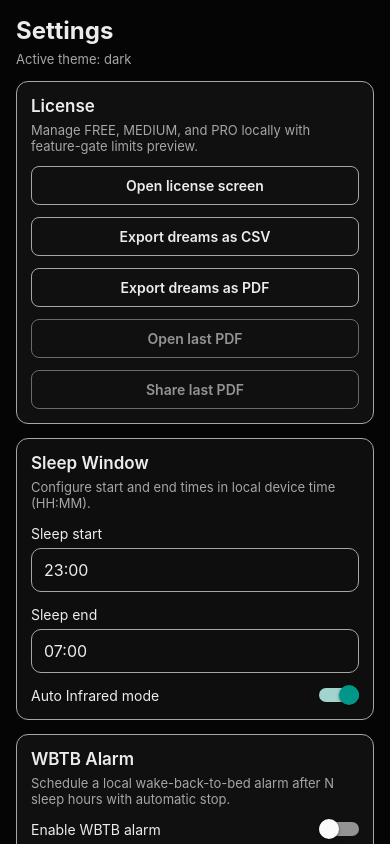
Test: SettingsScreenView › shows a clear gate message when FREE blocks CSV export
What coordinates should you click on to do the following:
click the button with test id "settings-export-dreams-button"
I would click on:
 (195, 236)
Its box is [31, 217, 359, 256].
(page scrolled)
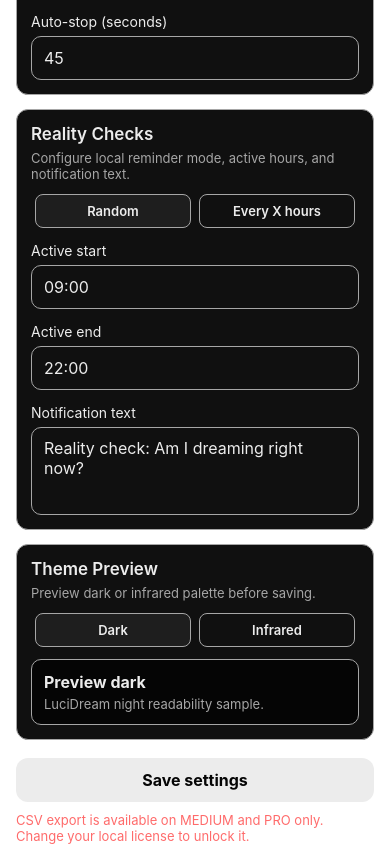
Expected: the text with test id "settings-error-message" shows "CSV export is available on MEDIUM and PRO only. Change your local license to unlock it.", [16, 812, 327, 843]
